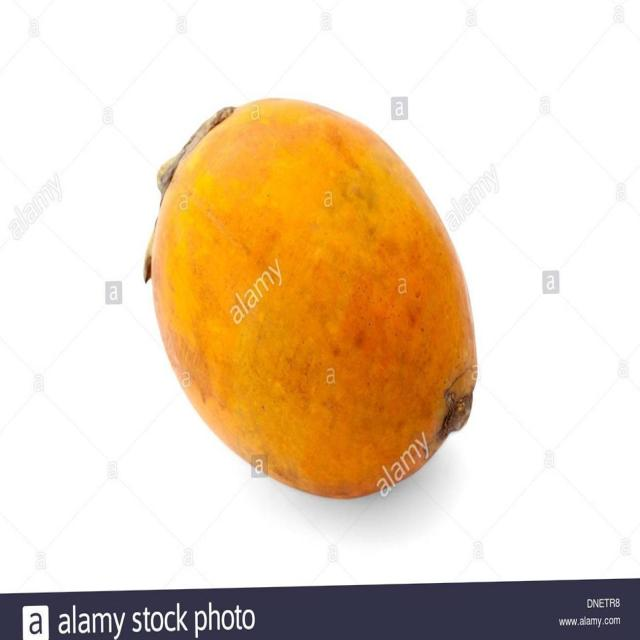good: (146, 98, 479, 502)
